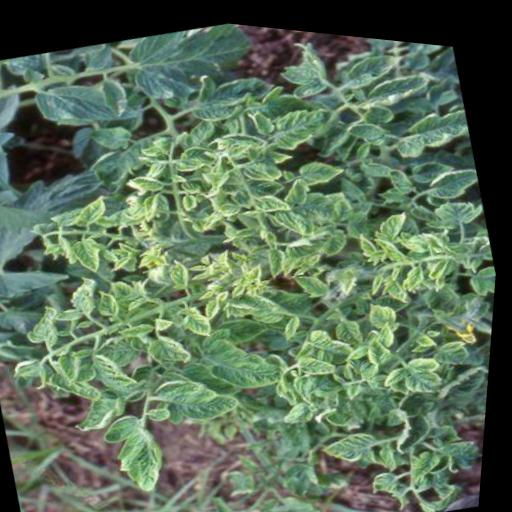Yellow Leaf Curl Virus: (94, 398, 184, 506), (198, 317, 293, 401), (160, 356, 259, 431), (384, 81, 477, 160), (338, 54, 436, 116), (264, 23, 340, 102), (266, 170, 350, 236), (328, 27, 412, 92), (265, 89, 342, 151), (68, 380, 141, 441), (383, 338, 454, 400), (95, 338, 157, 400), (281, 213, 354, 265), (49, 265, 108, 325), (317, 412, 385, 464), (417, 148, 484, 199), (289, 138, 353, 190), (421, 180, 490, 228), (144, 321, 203, 370), (22, 296, 71, 350), (110, 266, 162, 312), (241, 279, 293, 323), (238, 143, 288, 186), (371, 199, 417, 244), (179, 294, 223, 340), (170, 133, 221, 172), (352, 216, 394, 261), (296, 339, 346, 376), (294, 255, 338, 297), (70, 229, 110, 275), (433, 323, 480, 362), (70, 185, 113, 227), (363, 283, 403, 323), (379, 261, 418, 301), (410, 435, 452, 472), (253, 178, 295, 213), (57, 341, 91, 383), (334, 307, 371, 345), (130, 162, 172, 195), (95, 281, 128, 321), (118, 312, 162, 340), (167, 249, 198, 288), (366, 324, 400, 359), (385, 153, 418, 189), (398, 252, 432, 286)
